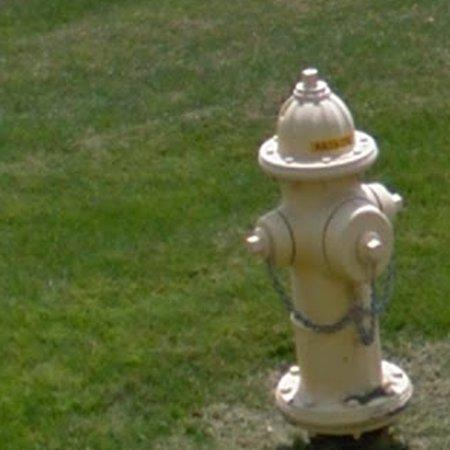a fire hydrant: (247, 68, 413, 437)
